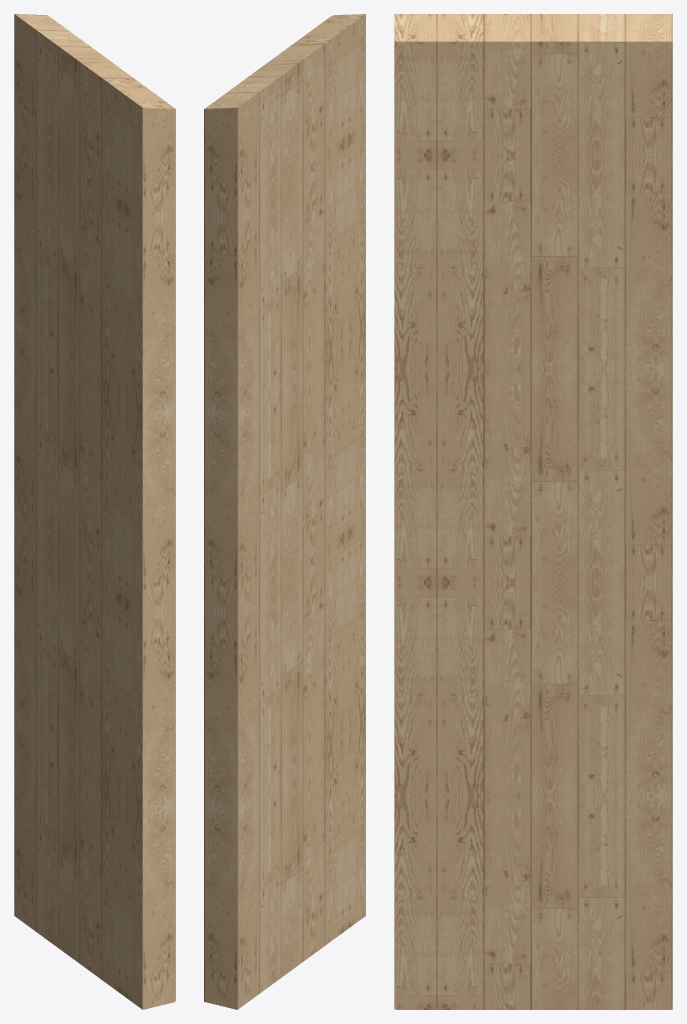
The model's file is wall-tex.glb.
3 views of the same model, side by side, from view 1: azimuth 30°, elevation 25°; view 2: azimuth 150°, elevation 25°; view 3: azimuth 270°, elevation 25° (orthographic). The views are drawn at different scales.
Parts seen in each view (by area): view 1: Model.002; view 2: Model.002; view 3: Model.002.
Part boxes in pixels (left/top/right/bottom): Model.002: left=14, top=14, right=175, bottom=1009; Model.002: left=204, top=14, right=365, bottom=1009; Model.002: left=394, top=14, right=672, bottom=1009.
Size of the model in its own units: 1.5 by 38.77 by 10.
Materials: 1 (1 with a texture image).
